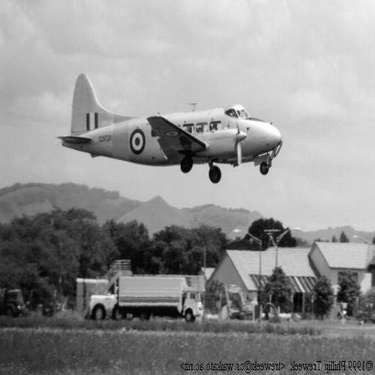airplane: (46, 67, 288, 182)
